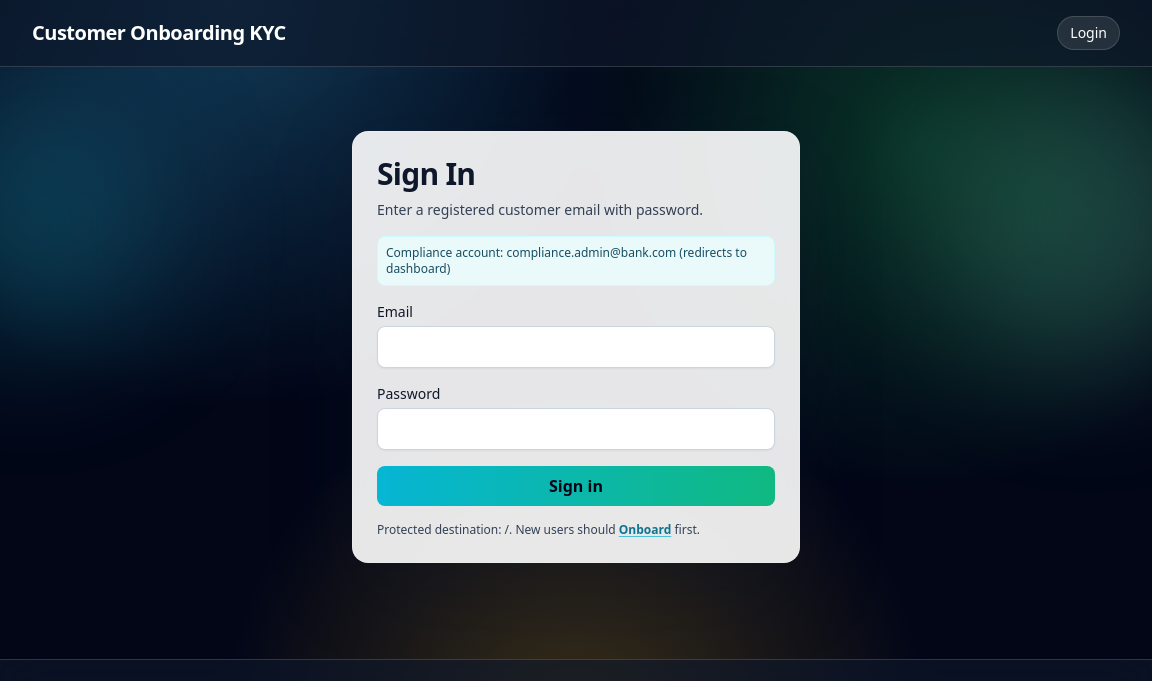
LoginPage › accepts email and password with surrounding spaces and mixed-case email
Type "  Customer@Example.com  " into the field labelled "Email" at {"x": 576, "y": 347}, box [377, 326, 775, 368]
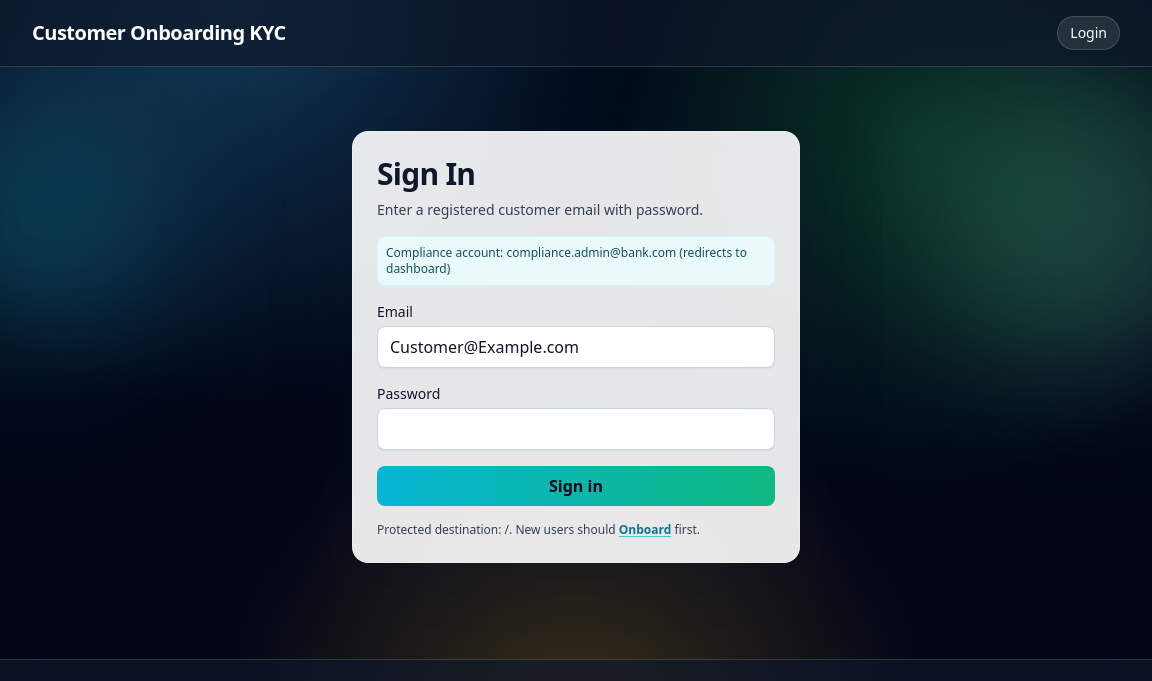
Type "  Welcome@123  " into the password field labelled "Password" at {"x": 576, "y": 429}, box [377, 408, 775, 450]
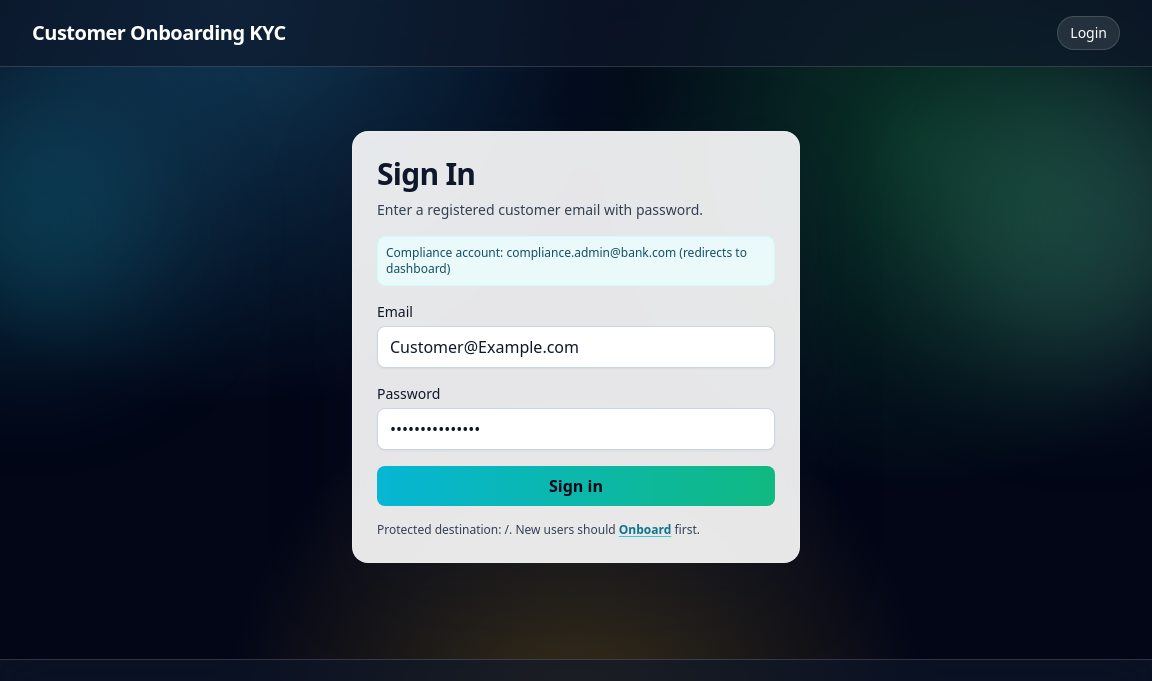
Click the button "Sign in" at {"x": 576, "y": 486}, box [377, 466, 775, 506]
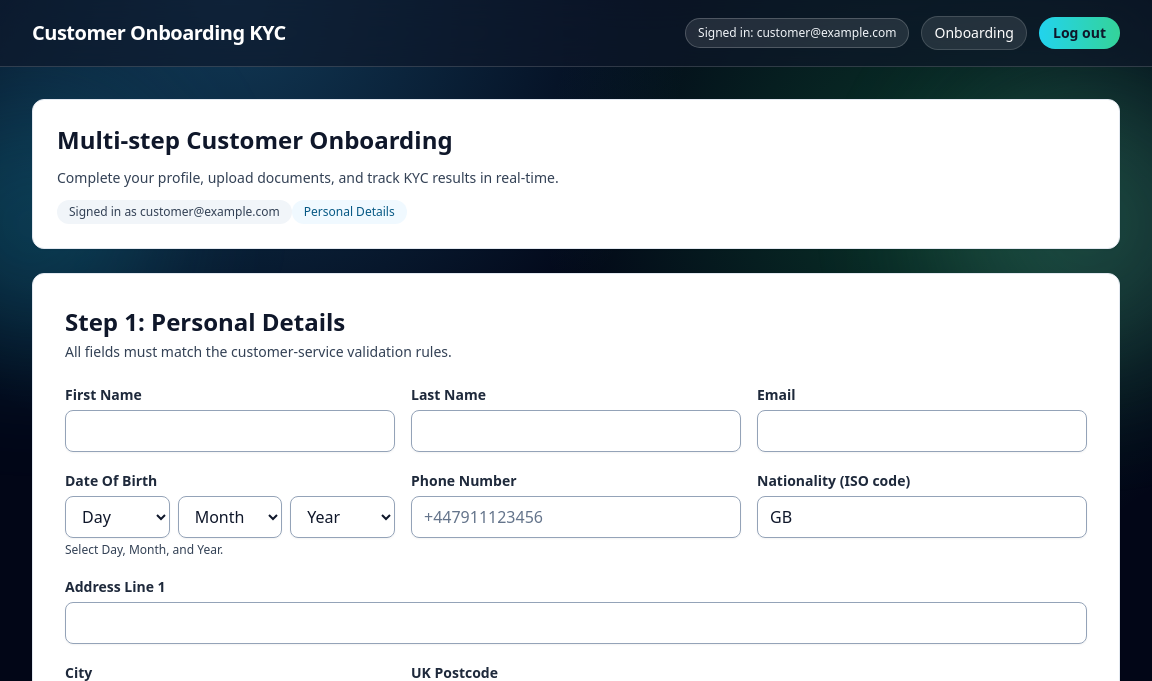
Now the heading "Step 1: Personal Details" is shown, box [65, 305, 345, 338]
